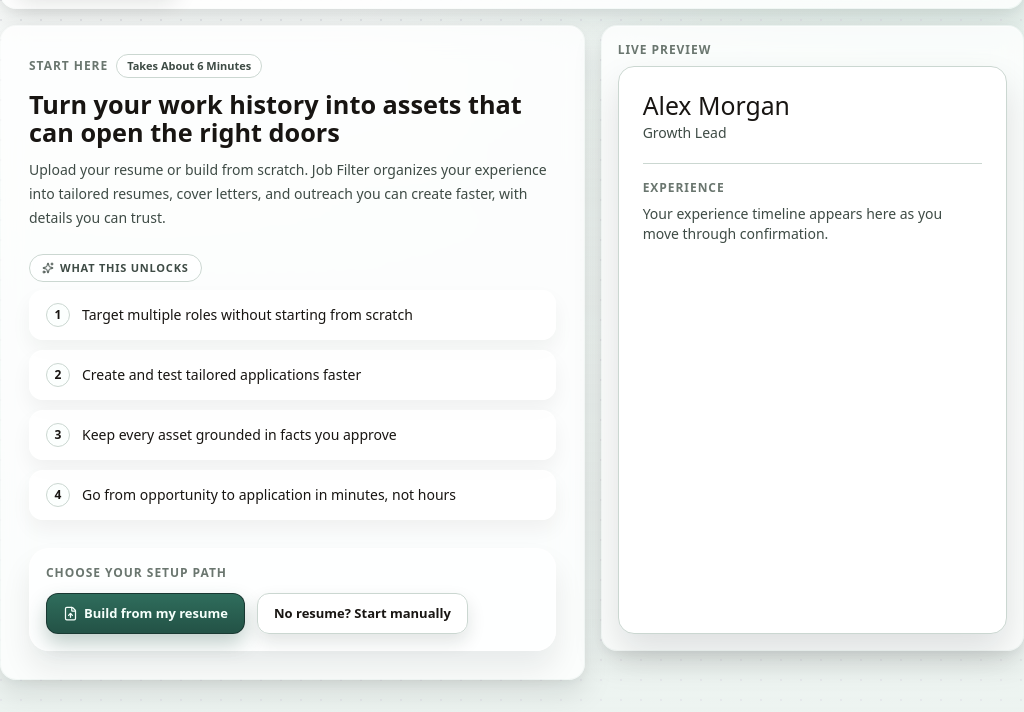
Scenario: ProfileWorkspaceShell › keeps manual path selection on Start Here and removes redundant manual controls from Experience
The image size is (1024, 712).
(page scrolled)
Click the button "No resume? Start manually" at [362, 613], box [257,593,468,634]
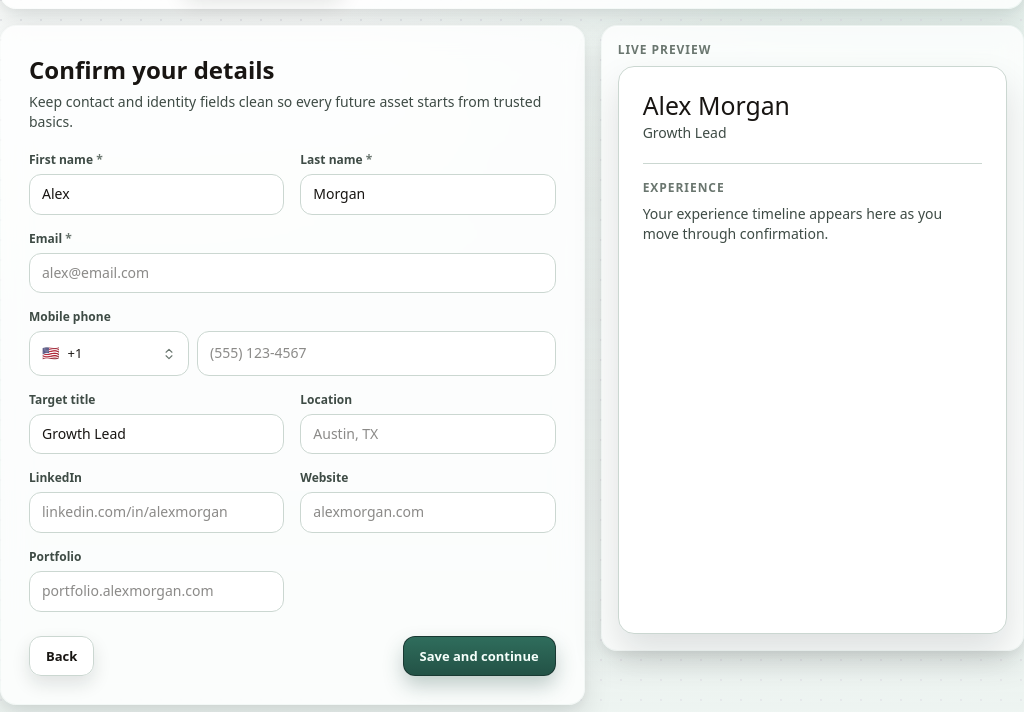
Type "Jordan" into the field labelled "First name *" at [157, 194], box [29,174,284,215]
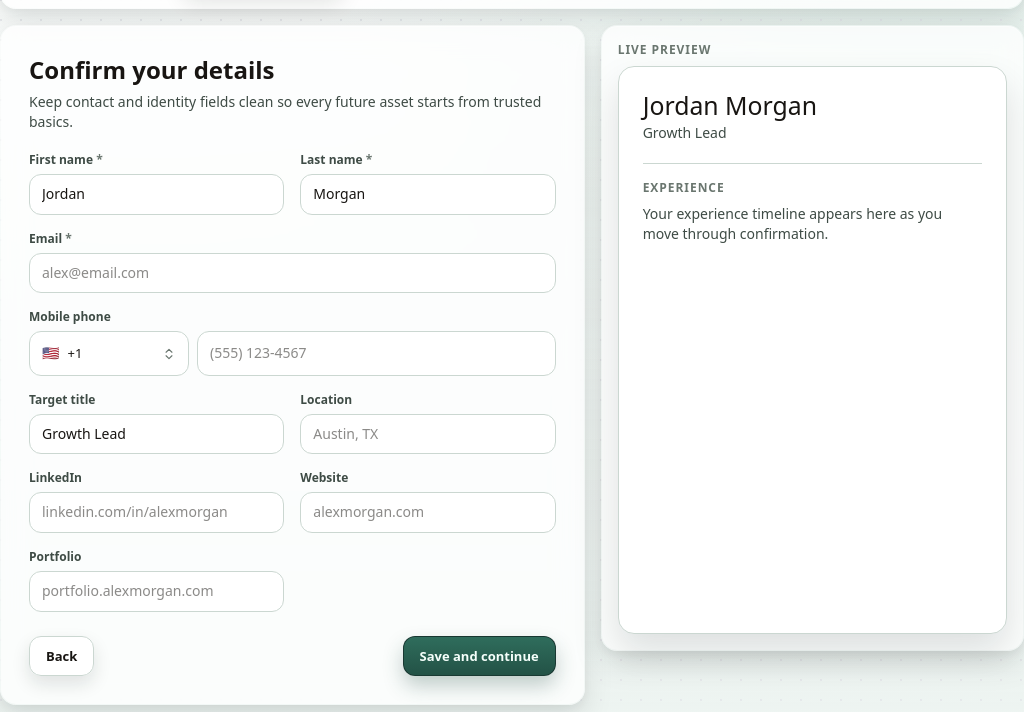
Type "Lee" into the field labelled "Last name *" at [428, 194], box [300,174,556,215]
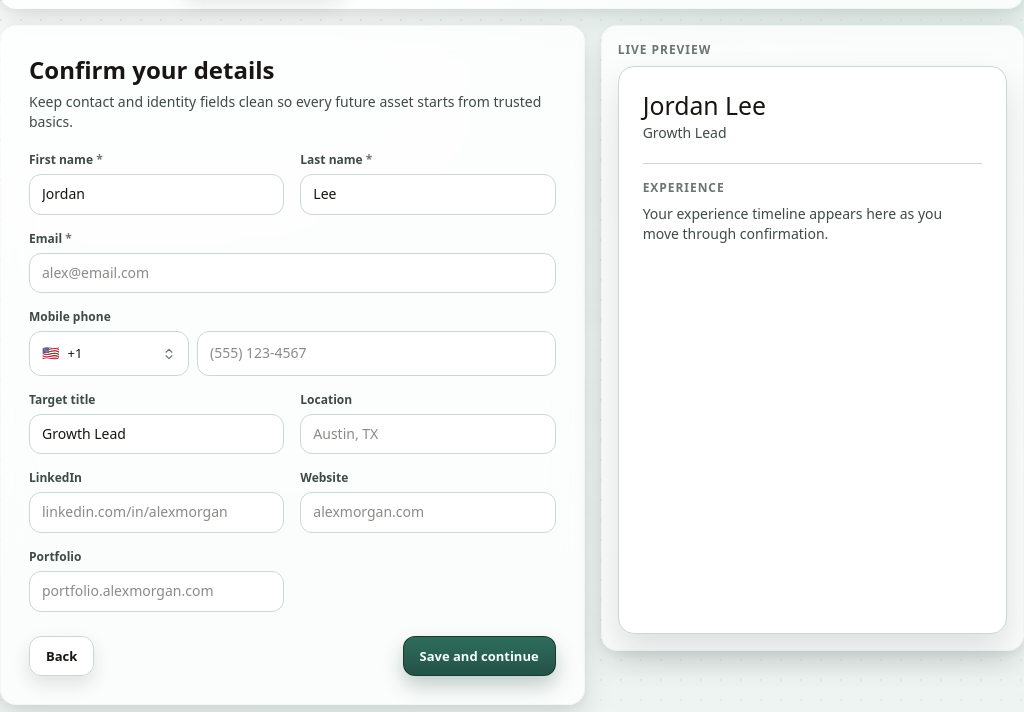
Type "jordan@example.com" into the field labelled "Email *" at [292, 273], box [29,253,556,293]
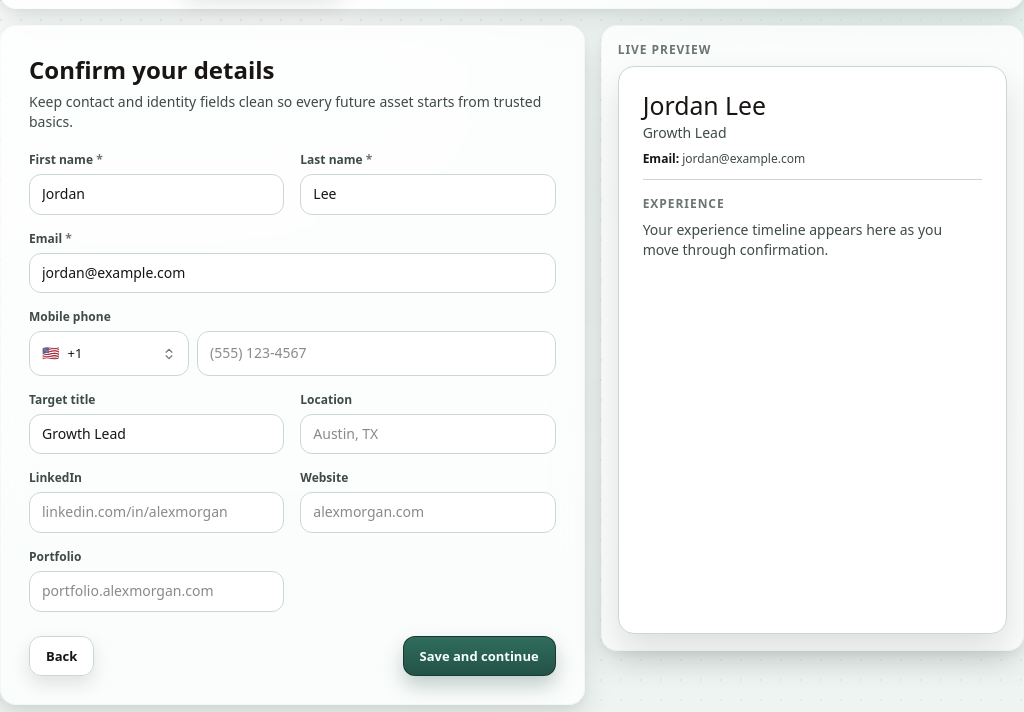
Click the button "Save and continue" at [479, 656], box [402,636,556,676]
(page scrolled)
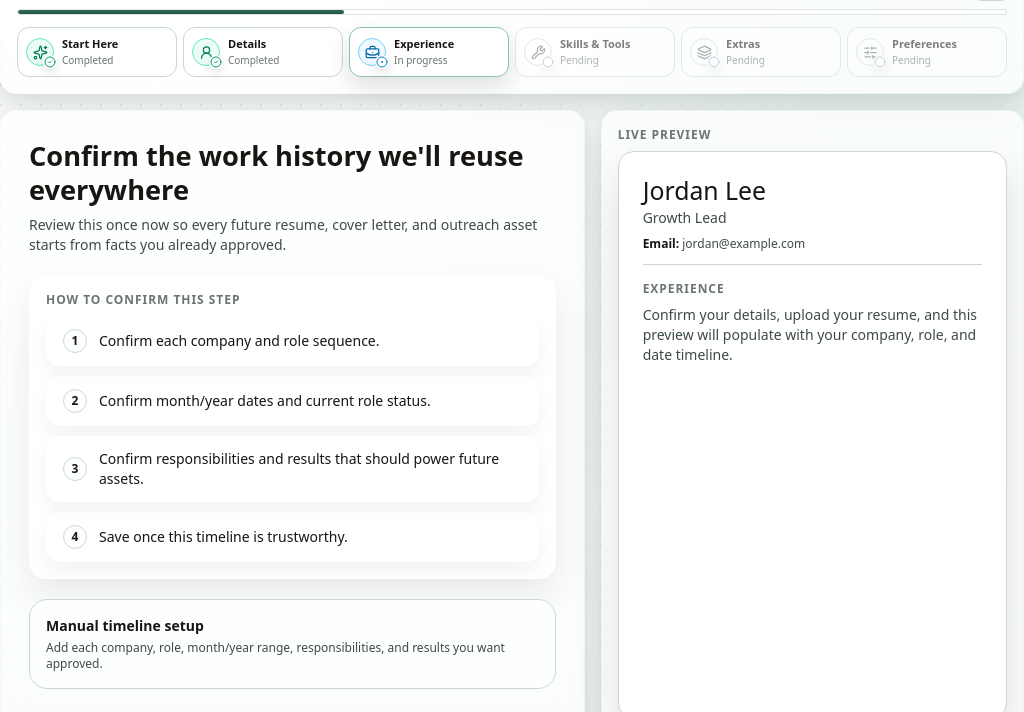
Expected: the button "No resume? Start manually" is not shown
Expected: the text "Manual timeline setup" is shown, [46,616,204,635]
